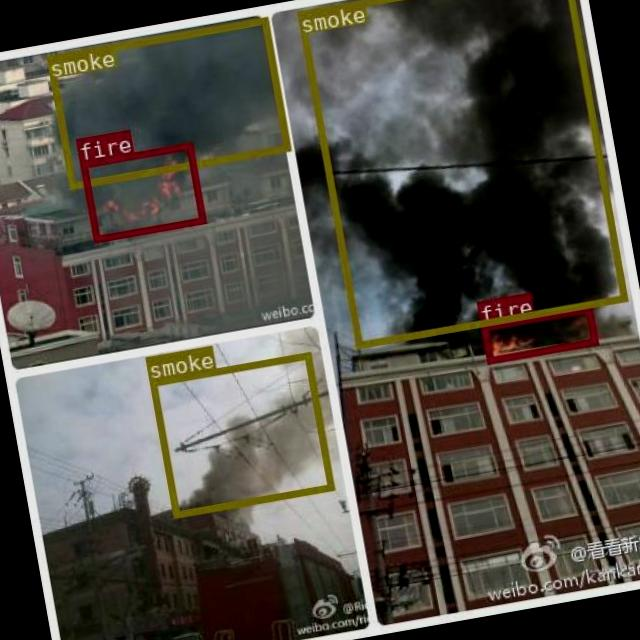fire: (78, 141, 204, 241), (479, 304, 596, 362)
smoke: (295, 0, 625, 346), (46, 15, 290, 188), (148, 350, 332, 516)
